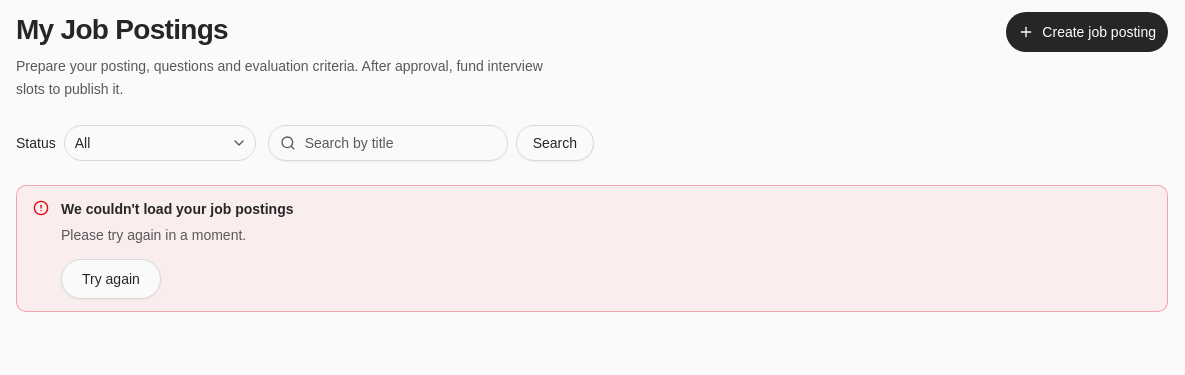
Scenario: JobPostingList › shows an error with a retry
Expected: the message shows "couldn't load your job postings", [61,200,294,216]
Click the button "Try again". click: click(111, 279)
box: [61,259,161,299]
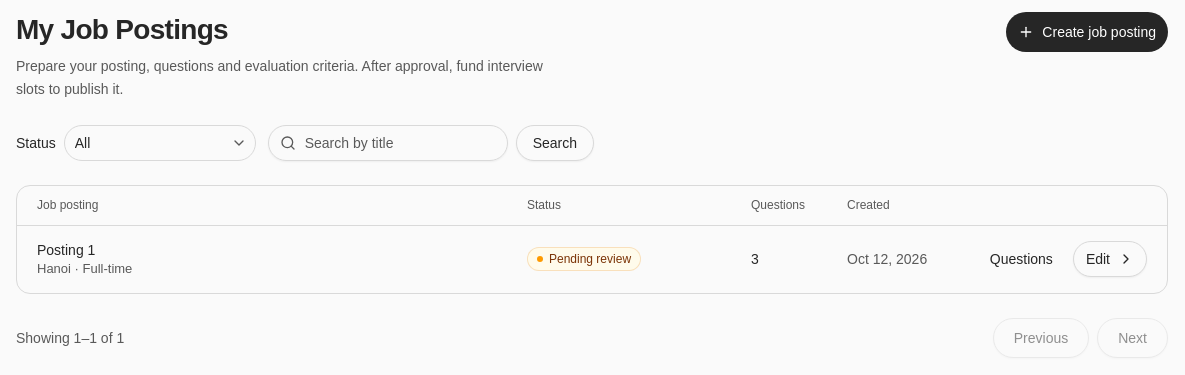
Now the table is shown, box [17,186,1167,293]
